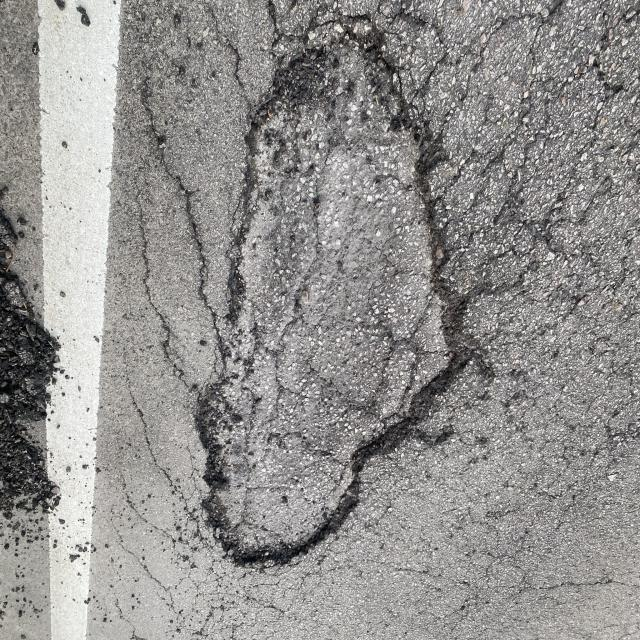Pothole: (166, 0, 515, 564)
